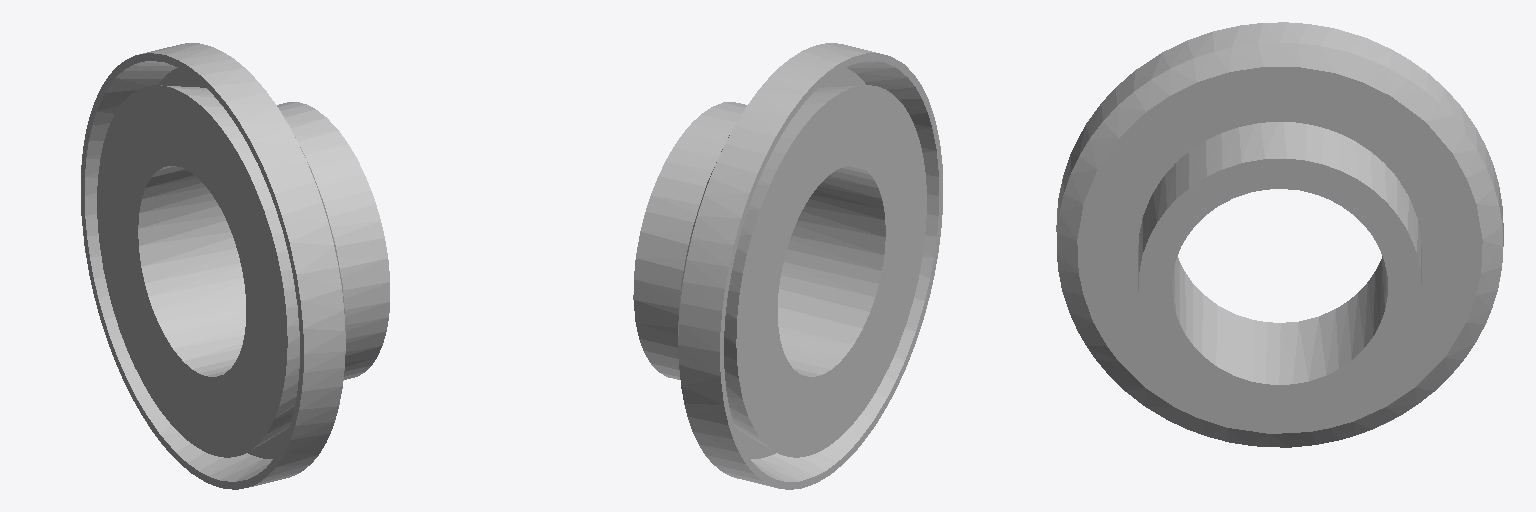
Rendered from oil reflector.obj.
The picture shows the model from 3 angles: view 1: azimuth 30°, elevation 25°; view 2: azimuth 150°, elevation 25°; view 3: azimuth 270°, elevation 25°; orthographic projection.
Parts seen in each view (by area): view 1: imagetostl_mesh0; view 2: imagetostl_mesh0; view 3: imagetostl_mesh0.
Part boxes in pixels (x1,y1,x2,y2): imagetostl_mesh0: (81, 43, 389, 489); imagetostl_mesh0: (633, 43, 942, 489); imagetostl_mesh0: (1056, 22, 1503, 447).
Size of the model in its own units: 61.21 by 186 by 186.